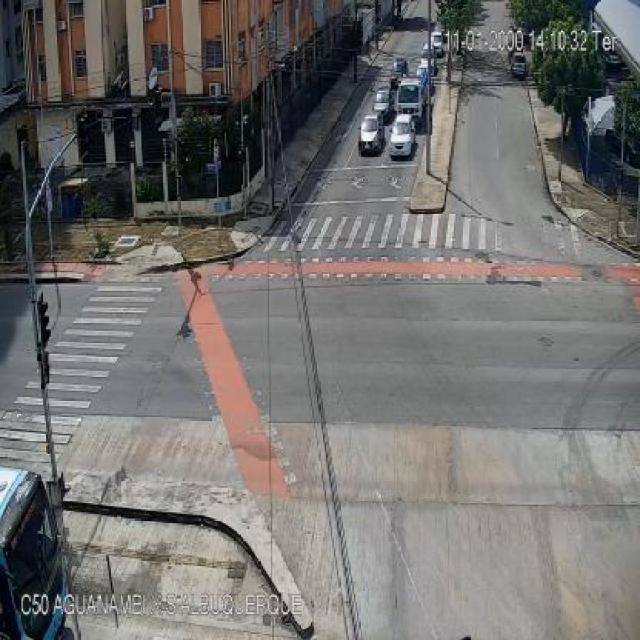Bus: (0, 465, 70, 640)
Car: (387, 114, 417, 161), (358, 112, 383, 154), (372, 88, 394, 118), (510, 53, 528, 78), (430, 31, 444, 56)
Truck: (397, 72, 429, 122)
